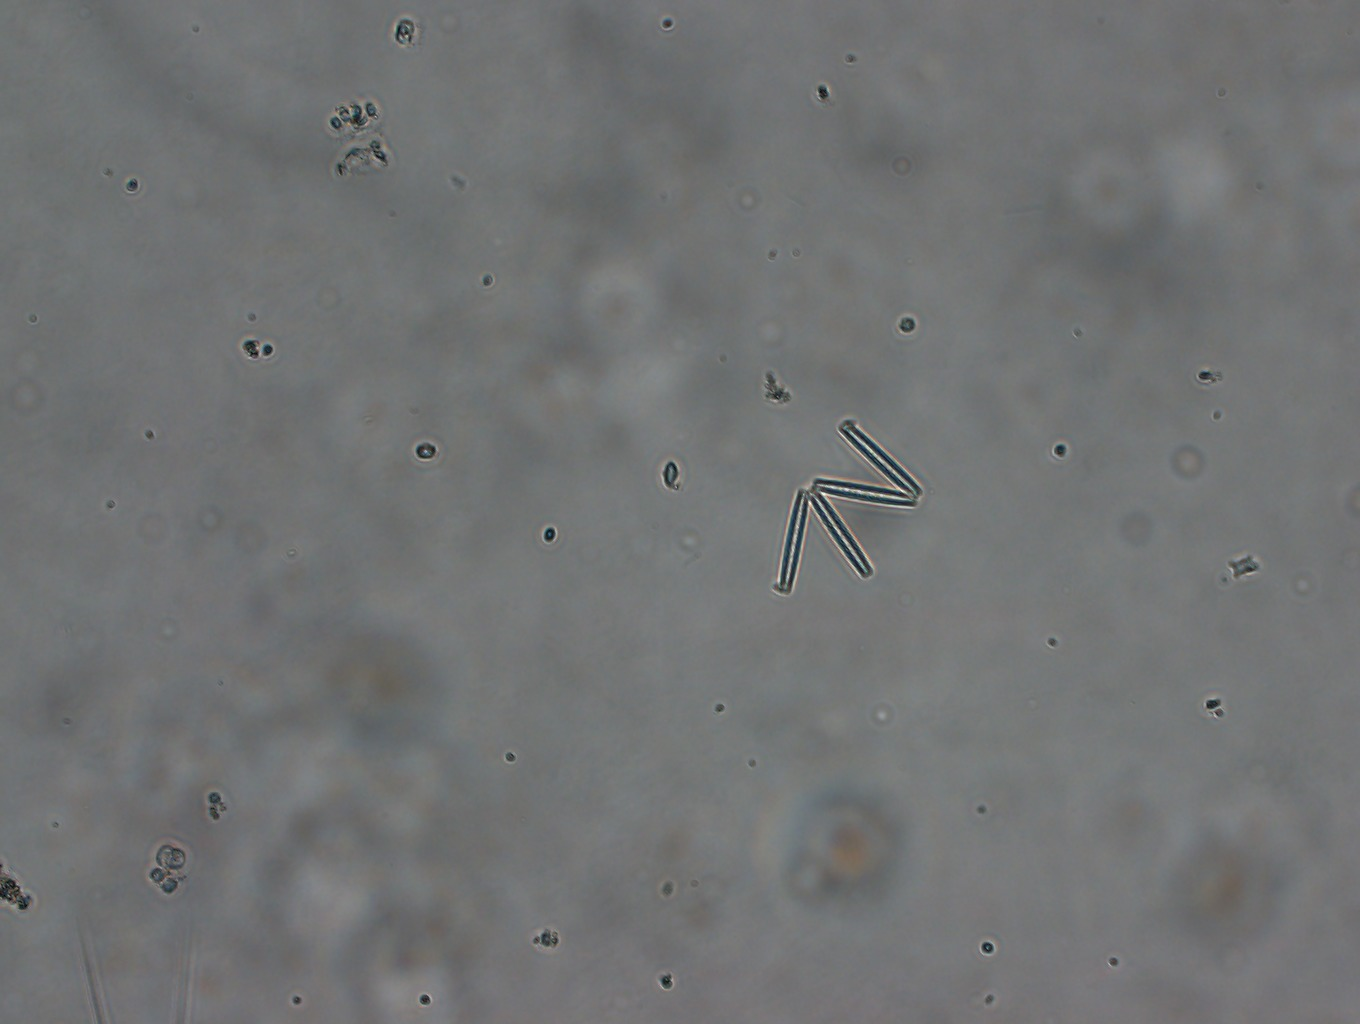thalassionema nitzschioides: (756, 412, 925, 605)
